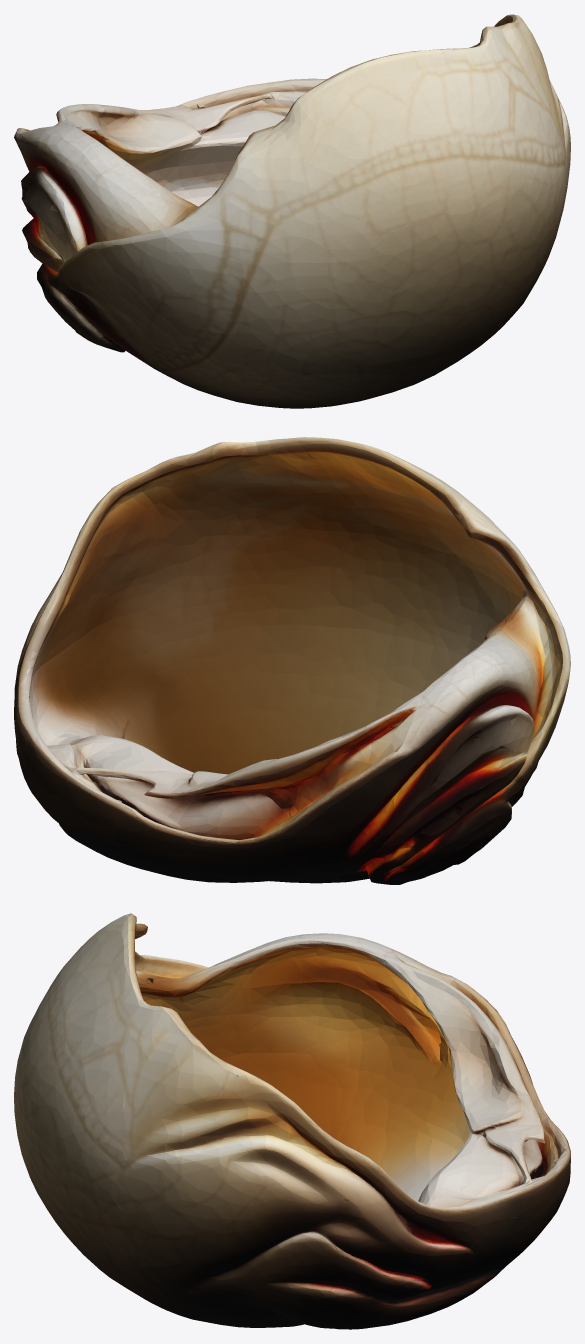
Rendered from seed-shell-shaker-new-style.jpeg.glb.
3 renders of one model, top to bottom at view 1: azimuth 30°, elevation 25°; view 2: azimuth 150°, elevation 25°; view 3: azimuth 270°, elevation 25°, orthographic.
Parts seen in each view (by area): view 1: world; view 2: world; view 3: world.
Part boxes in pixels (x1,y1,x2,y2): world: (14, 14, 570, 408); world: (14, 437, 570, 884); world: (14, 913, 570, 1329).
Bounding box in the file's own units: 0.9999 × 0.7383 × 0.999.
Materials: 1 (1 with a texture image).
